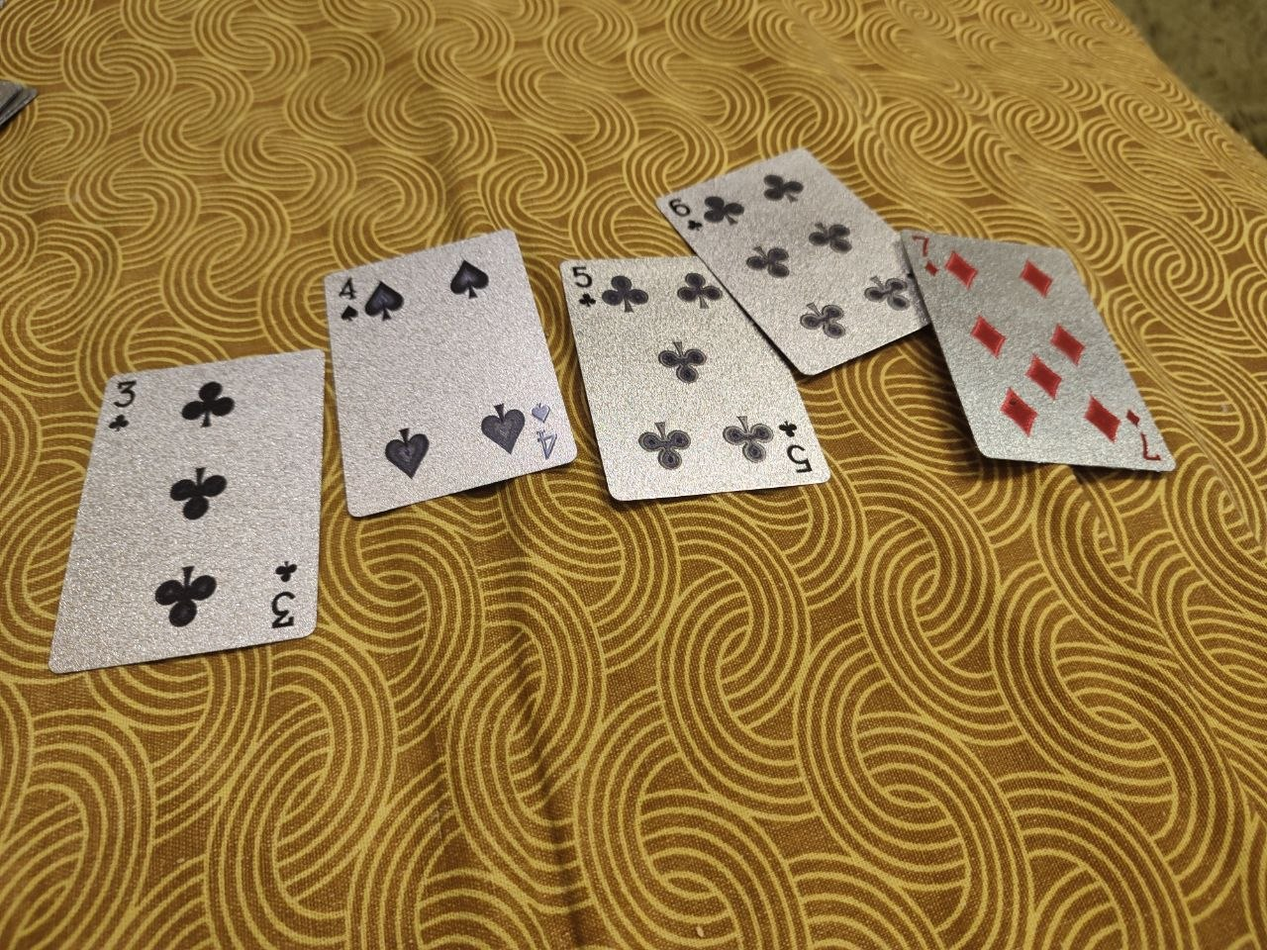3C: (45, 345, 328, 675)
4S: (322, 224, 578, 517)
5C: (559, 255, 834, 504)
6C: (655, 147, 932, 374)
7D: (899, 229, 1174, 472)
